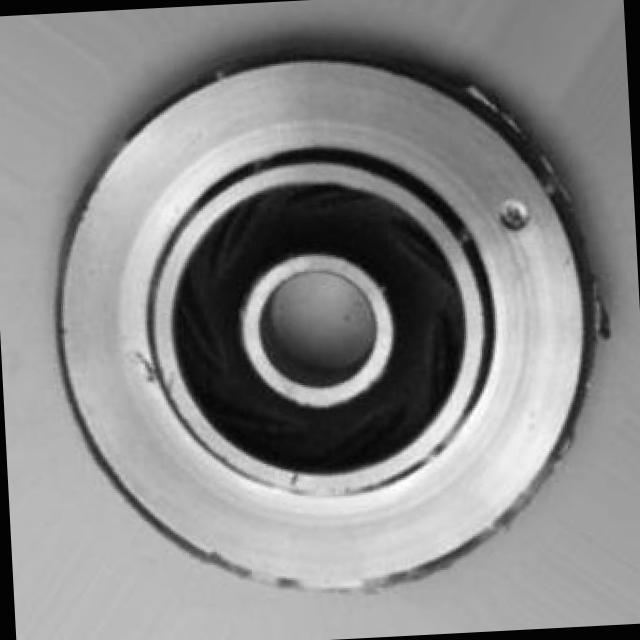Defect: (496, 193, 536, 237)
